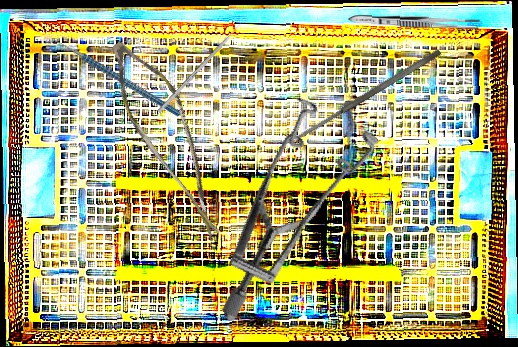Chopper: (43, 4, 183, 153)
Dressing Forceps: (347, 12, 482, 31)
Micro Scissor: (79, 32, 265, 245)
Pusher: (157, 16, 248, 114)
Spatula Surgical: (294, 47, 443, 142)
Speculum: (152, 74, 422, 324)
